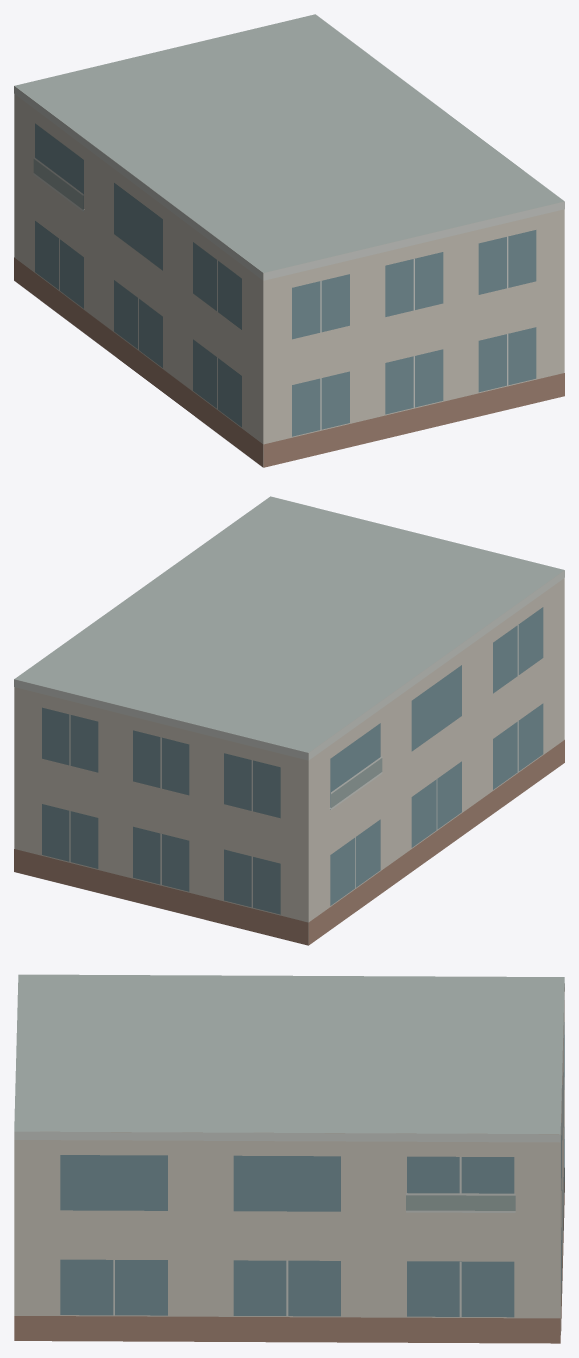
The model's file is survey-upis-32765813.glb.
The picture shows the model from 3 angles, top to bottom: view 1: azimuth 30°, elevation 25°; view 2: azimuth 150°, elevation 25°; view 3: azimuth 270°, elevation 25°; orthographic projection. The views are drawn at different scales.
Parts seen in each view (by area): view 1: survey-upis-32765813.tmp; view 2: survey-upis-32765813.tmp; view 3: survey-upis-32765813.tmp.
Boxes of the visible parts, x1,y1,x2,y2 form: survey-upis-32765813.tmp: (14, 14, 564, 467); survey-upis-32765813.tmp: (14, 496, 564, 945); survey-upis-32765813.tmp: (14, 974, 564, 1343).
Size of the model in its own units: 10.01 by 6.1 by 14.56.
